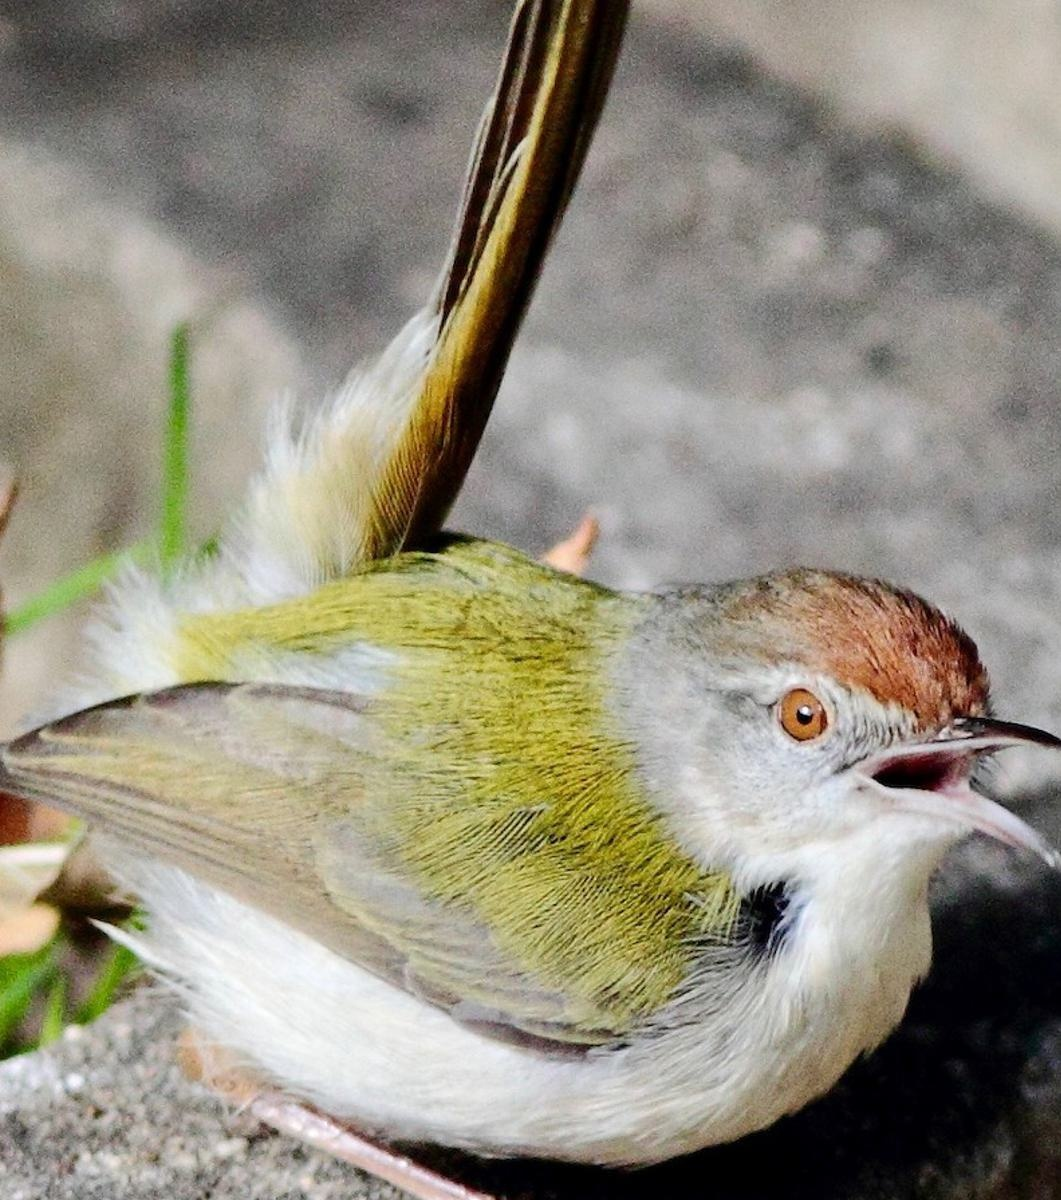tailorbird: (1, 533, 1050, 1109)
